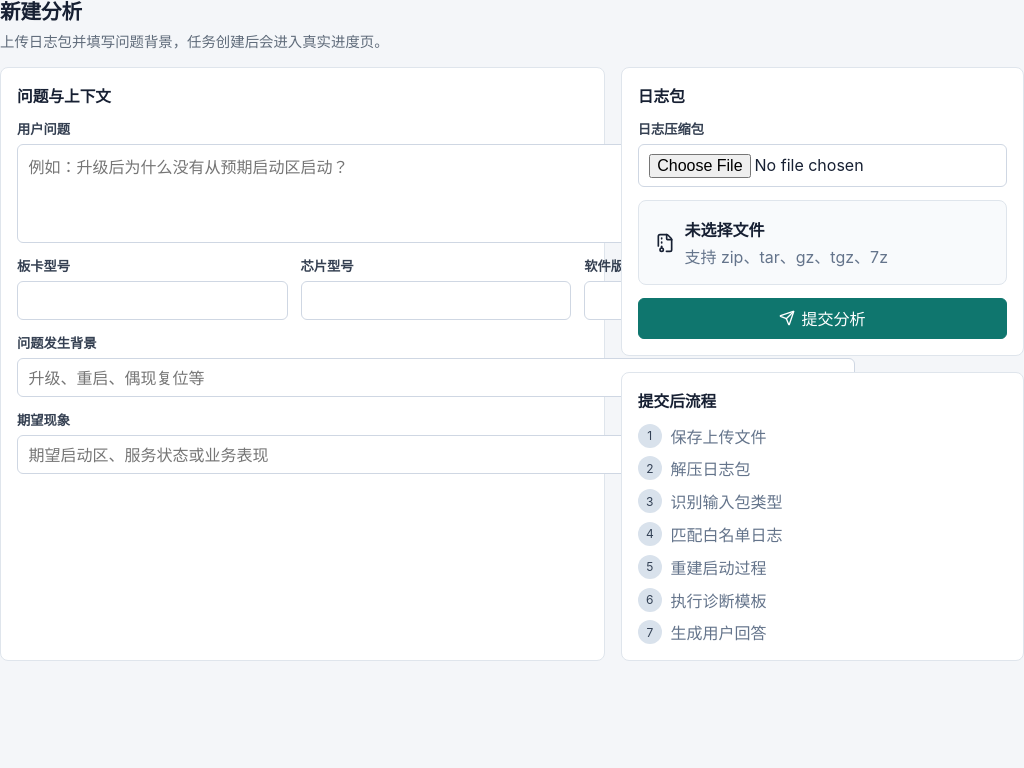
Scenario: NewTaskPage › validates required question and archive fields
Click the button "提交分析" at (822, 318), box x1=638 y1=298 x2=1007 y2=338
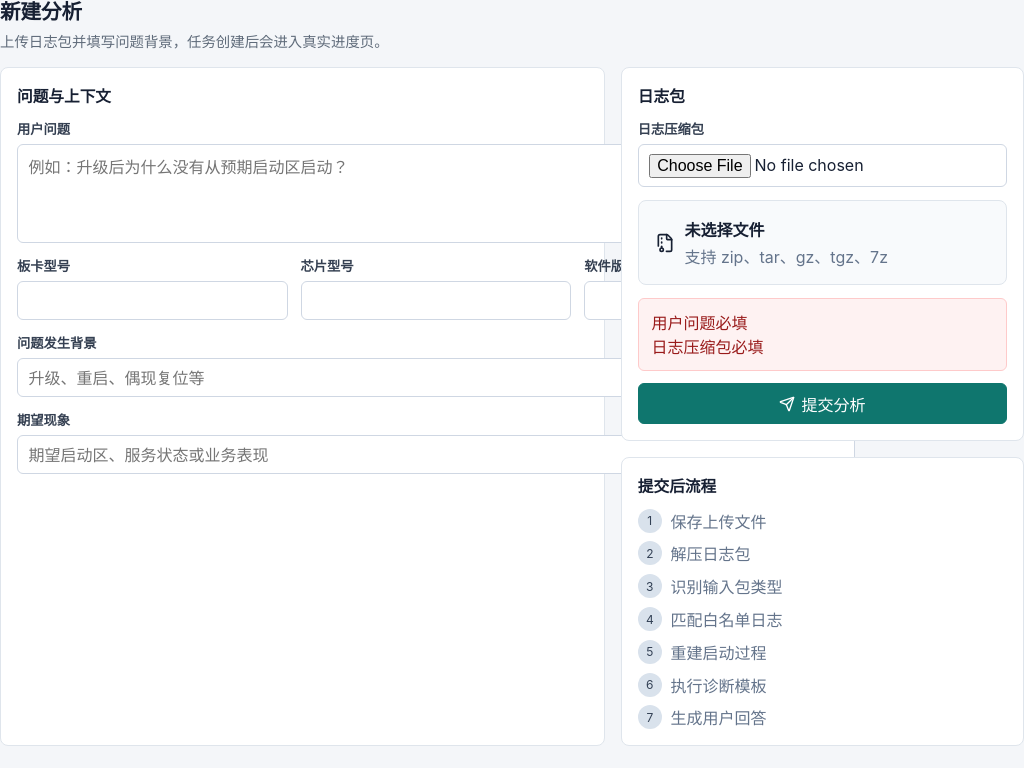
Result: the text "用户问题必填" is shown at x1=652 y1=313 x2=748 y2=333
Result: the text "日志压缩包必填" is shown at x1=652 y1=337 x2=764 y2=357
